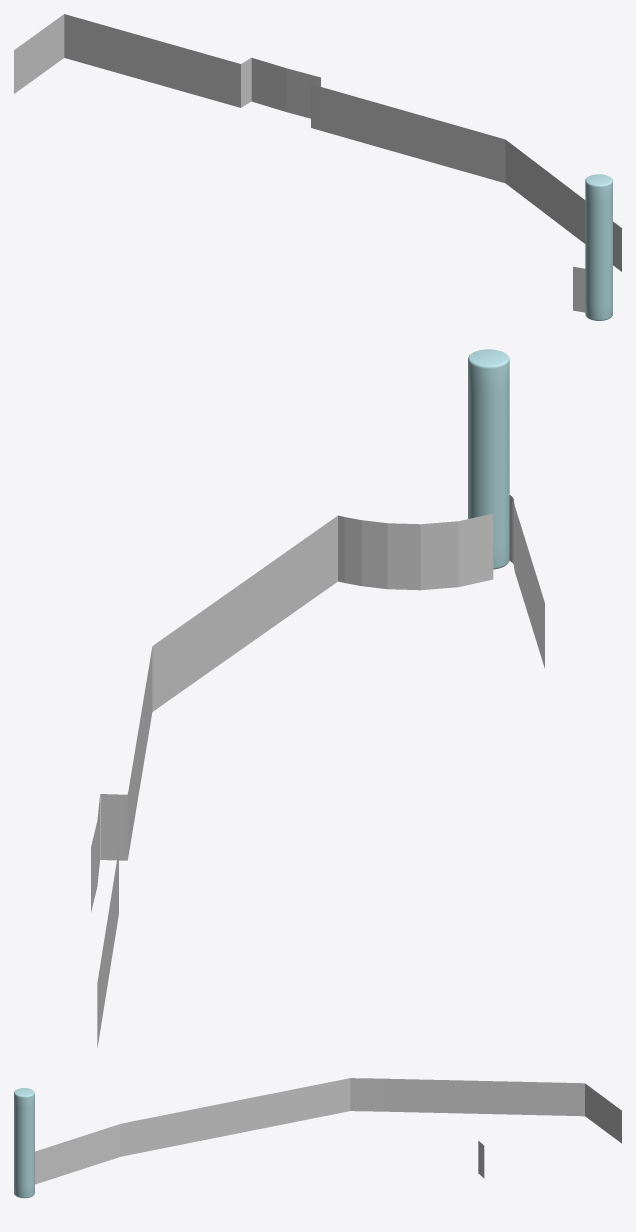
The model's file is 商场建筑.gltf.
3 views of the same model, one above another, from view 1: azimuth 30°, elevation 25°; view 2: azimuth 150°, elevation 25°; view 3: azimuth 270°, elevation 25° (orthographic). The views are drawn at different scales.
Visible parts, largest first — view 1: 商场-材质 (×8), 商场-材质.1; view 2: 商场-材质 (×9), 商场-材质.1; view 3: 商场-材质 (×11), 商场-材质.1.
Boxes of the visible parts, <box> form: 商场-材质 (×8): <box>17,14,621,271</box>; 商场-材质.1: <box>585,174,612,320</box>; 商场-材质 (×9): <box>97,513,493,1047</box>; 商场-材质.1: <box>468,349,509,569</box>; 商场-材质 (×11): <box>35,1078,619,1184</box>; 商场-材质.1: <box>14,1088,34,1198</box>.
Bounding box in the file's own units: 382 × 170 × 918.
